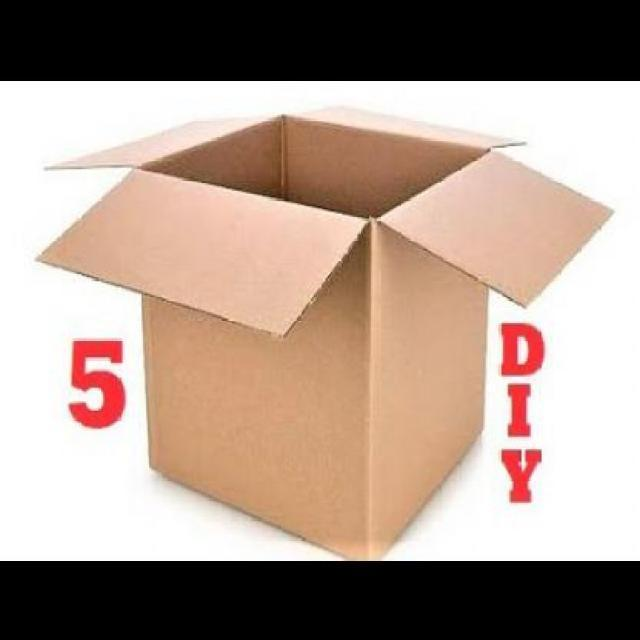box: (43, 103, 585, 560)
